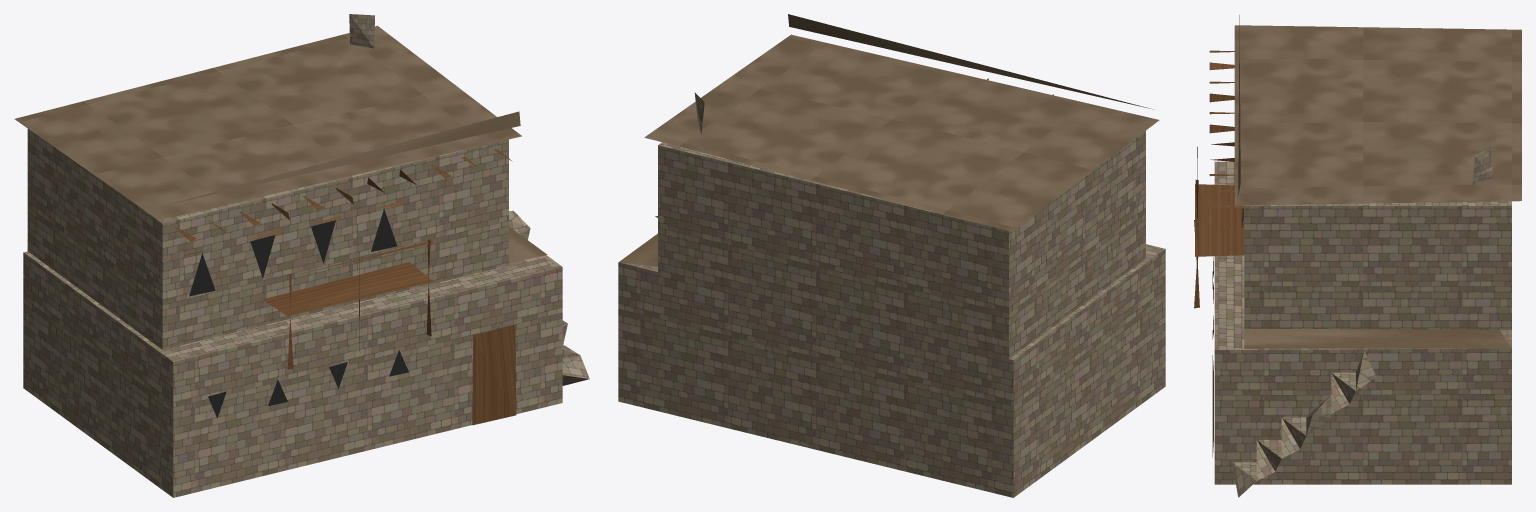
The model's file is house_saklya_large_lod2.glb.
3 views of the same model, side by side, from view 1: azimuth 30°, elevation 25°; view 2: azimuth 150°, elevation 25°; view 3: azimuth 270°, elevation 25° (orthographic). The views are drawn at different scales.
Visible parts, largest first — view 1: m; view 2: m; view 3: m.
Part boxes in pixels (bbox=[...]): m: bbox=[14, 14, 589, 497]; m: bbox=[618, 14, 1165, 497]; m: bbox=[1194, 15, 1521, 497].
Size of the model in its own units: 10 by 6.74 by 6.62.
4 materials, 3 textured.
